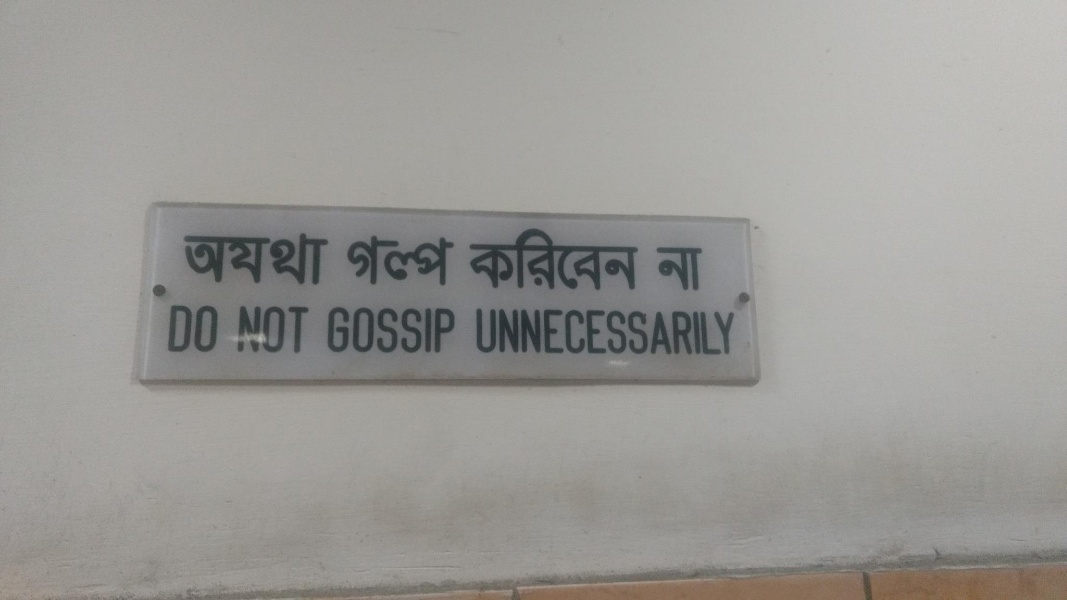text: (481, 224, 496, 293), (497, 224, 512, 293), (513, 224, 528, 293), (529, 224, 544, 293), (545, 224, 560, 293), (561, 224, 576, 293), (577, 224, 592, 293), (593, 224, 608, 293), (609, 224, 624, 293), (625, 224, 640, 293), (241, 297, 256, 356), (257, 297, 272, 356), (273, 297, 288, 356), (289, 297, 304, 356), (193, 230, 208, 286), (209, 230, 224, 286), (225, 230, 240, 286), (241, 230, 256, 286), (257, 230, 272, 286), (273, 230, 288, 286), (289, 230, 304, 286), (305, 230, 320, 286), (481, 303, 496, 359), (497, 303, 512, 359), (513, 303, 528, 359), (529, 303, 544, 359), (545, 303, 560, 359), (561, 303, 576, 359), (577, 303, 592, 359), (593, 303, 608, 359), (609, 303, 624, 359), (625, 303, 640, 359), (641, 303, 656, 359), (657, 303, 672, 359), (673, 303, 688, 359), (689, 303, 704, 359), (705, 303, 720, 359), (721, 303, 736, 359), (468, 224, 480, 293), (305, 297, 319, 356), (657, 241, 672, 296), (673, 241, 688, 296), (353, 233, 368, 287), (369, 233, 384, 287), (385, 233, 400, 287), (401, 233, 416, 287), (417, 233, 432, 287), (433, 233, 448, 287), (177, 303, 192, 357), (193, 303, 208, 357), (209, 303, 224, 357), (337, 303, 352, 356), (353, 303, 368, 356), (369, 303, 384, 356), (385, 303, 400, 356), (401, 303, 416, 356), (417, 303, 432, 356), (433, 303, 448, 356), (689, 241, 703, 296), (179, 230, 192, 286), (321, 230, 333, 286), (469, 303, 480, 359), (326, 303, 336, 356), (449, 303, 458, 356), (449, 233, 457, 287), (168, 303, 176, 357), (234, 297, 240, 356), (654, 241, 656, 296), (350, 233, 352, 287), (737, 303, 738, 359)
